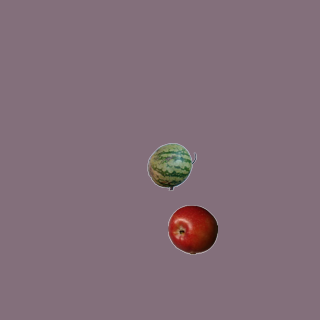Apple Braeburn: (167, 204, 217, 254)
Watermelon: (146, 141, 196, 191)
